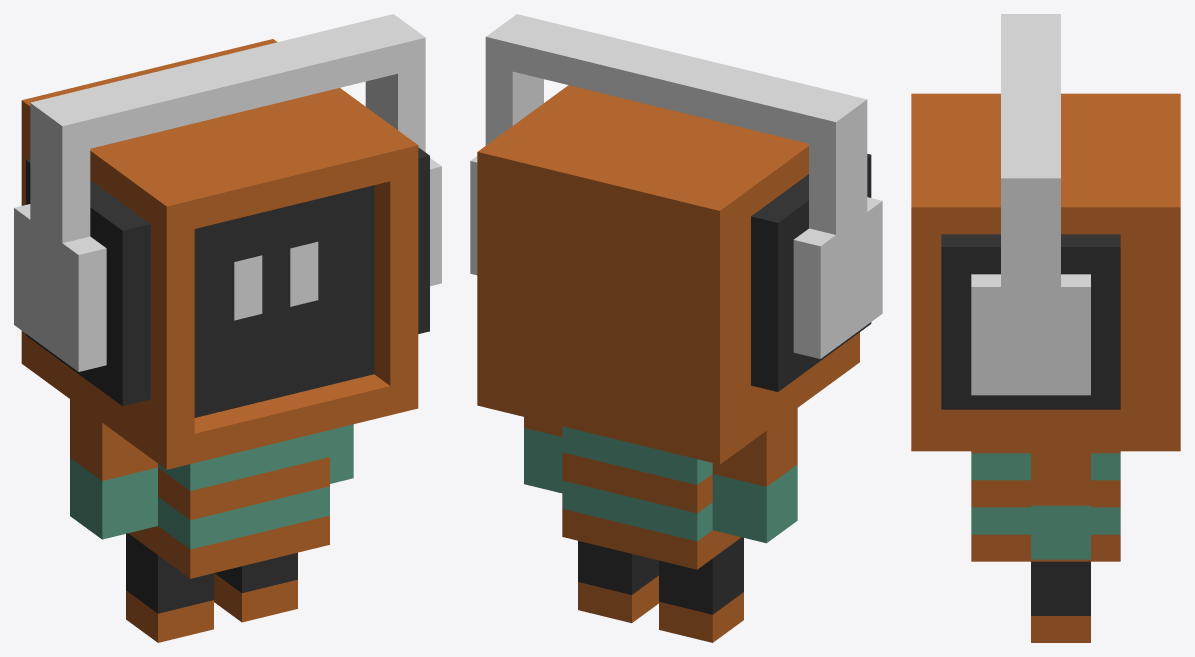
Rendered from lv21_robot.fbx.
3 renders of one model, left to right at view 1: azimuth 30°, elevation 25°; view 2: azimuth 150°, elevation 25°; view 3: azimuth 270°, elevation 25°, orthographic. The views are drawn at different scales.
Visible parts, largest first — view 1: pCube933, pCube1102, pCube1098, pCube720, pCube899, pCube912, pCube535, pCube911, pCube657, pCube511, pCube557, pCube545 (+128 smaller); view 2: pCube1036, pCube935, pCube1061, pCube846, pCube1042, pCube1050, pCube1011, pCube1052, pCube199, pCube165, pCube930, pCube940 (+142 smaller); view 3: pCube922, pCube728, pCube727, pCube821, pCube740, pCube718, pCube726, pCube724, pCube927, pCube944, pCube923, pCube945 (+143 smaller).
Part boxes in pixels (<box>): pCube933: <box>62,236,106,284</box>; pCube1102: <box>106,212,150,259</box>; pCube1098: <box>46,107,90,155</box>; pCube720: <box>150,188,194,235</box>; pCube899: <box>62,331,106,371</box>; pCube912: <box>106,336,150,376</box>; pCube535: <box>150,370,194,411</box>; pCube911: <box>106,366,150,406</box>; pCube657: <box>150,224,194,264</box>; pCube511: <box>150,253,194,294</box>; pCube557: <box>150,341,194,381</box>; pCube545: <box>150,400,194,440</box>; pCube1036: <box>751,205,793,250</box>; pCube935: <box>793,228,835,274</box>; pCube1061: <box>809,104,851,150</box>; pCube846: <box>693,193,735,238</box>; pCube1042: <box>739,476,782,514</box>; pCube1050: <box>739,447,782,486</box>; pCube1011: <box>685,604,728,642</box>; pCube1052: <box>739,504,782,543</box>; pCube199: <box>685,575,728,614</box>; pCube165: <box>670,530,712,569</box>; pCube930: <box>751,296,793,335</box>; pCube940: <box>809,167,851,206</box>; pCube922: <box>941,234,971,274</box>; pCube728: <box>941,194,971,234</box>; pCube727: <box>911,194,941,234</box>; pCube821: <box>1150,194,1180,234</box>; pCube740: <box>1120,194,1150,234</box>; pCube718: <box>1091,194,1120,234</box>; pCube726: <box>1061,194,1090,234</box>; pCube724: <box>971,194,1000,234</box>; pCube927: <box>1091,234,1120,274</box>; pCube944: <box>1031,165,1060,205</box>; pCube923: <box>971,234,1000,274</box>; pCube945: <box>1001,165,1030,205</box>.
Size of the model in its own units: 13 by 19 by 9.
